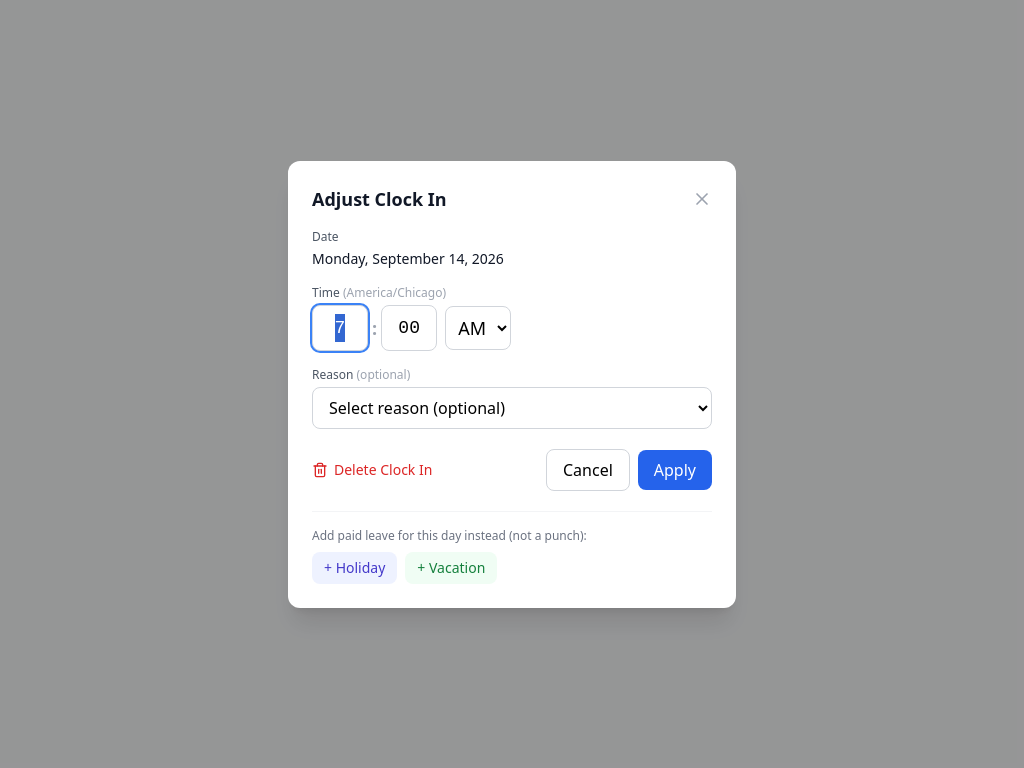
Test case: CorrectionModal — Holiday / Vacation shortcuts appear only in the Clock In context › hidden during the delete confirmation of a Clock In
Click the button "Delete Clock In": [372, 470] box x1=312 y1=460 x2=432 y2=480
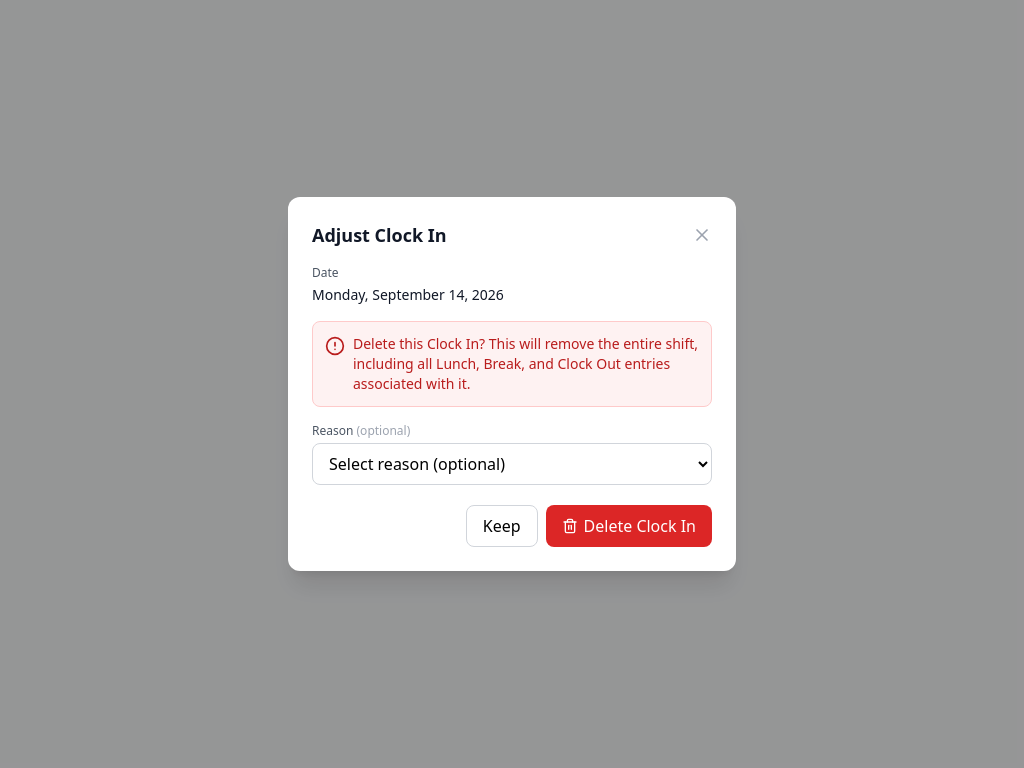
Check: the button "+ Holiday" is gone
Check: the button "+ Vacation" is gone
